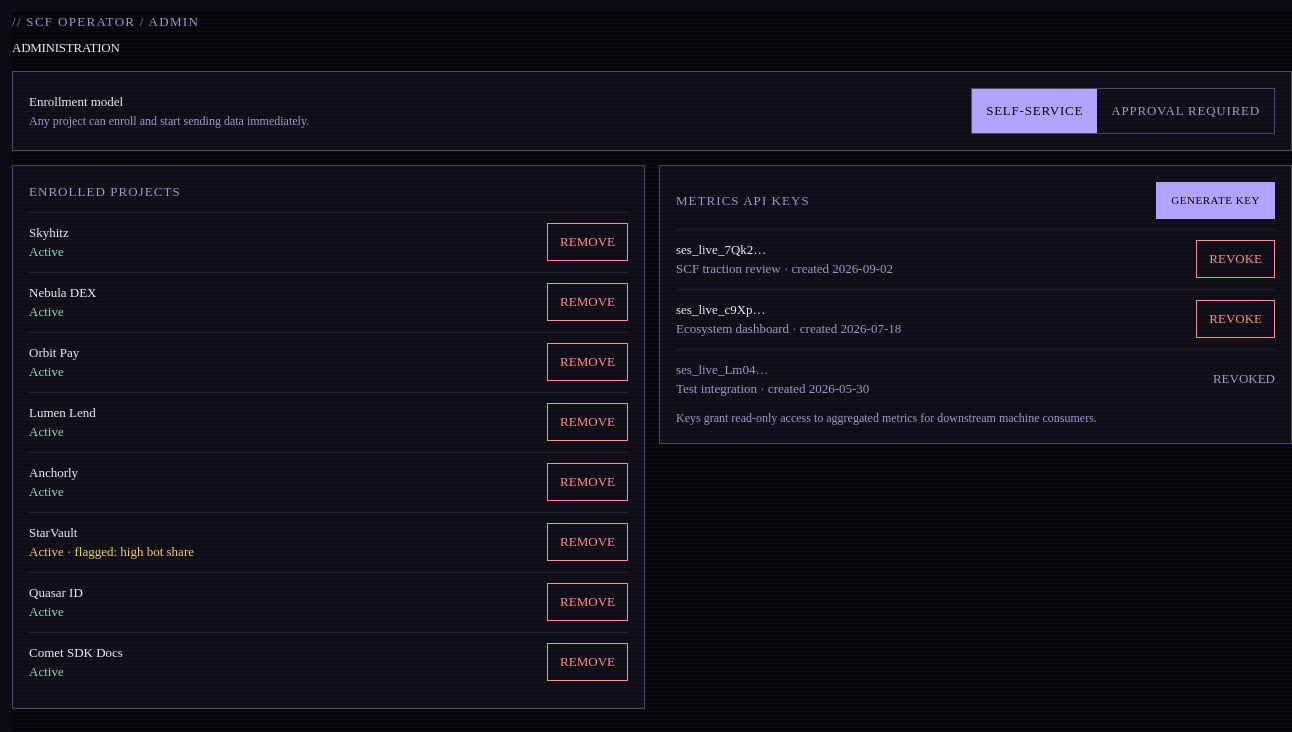
Test: AdminScreen › explains the enrollment model that is selected
expect the text "Any project can enroll and start sending data immediately." is shown: met, box [29,114,309,128]
Click the button "Approval required" at (1186, 111), box [1097,89,1274,133]
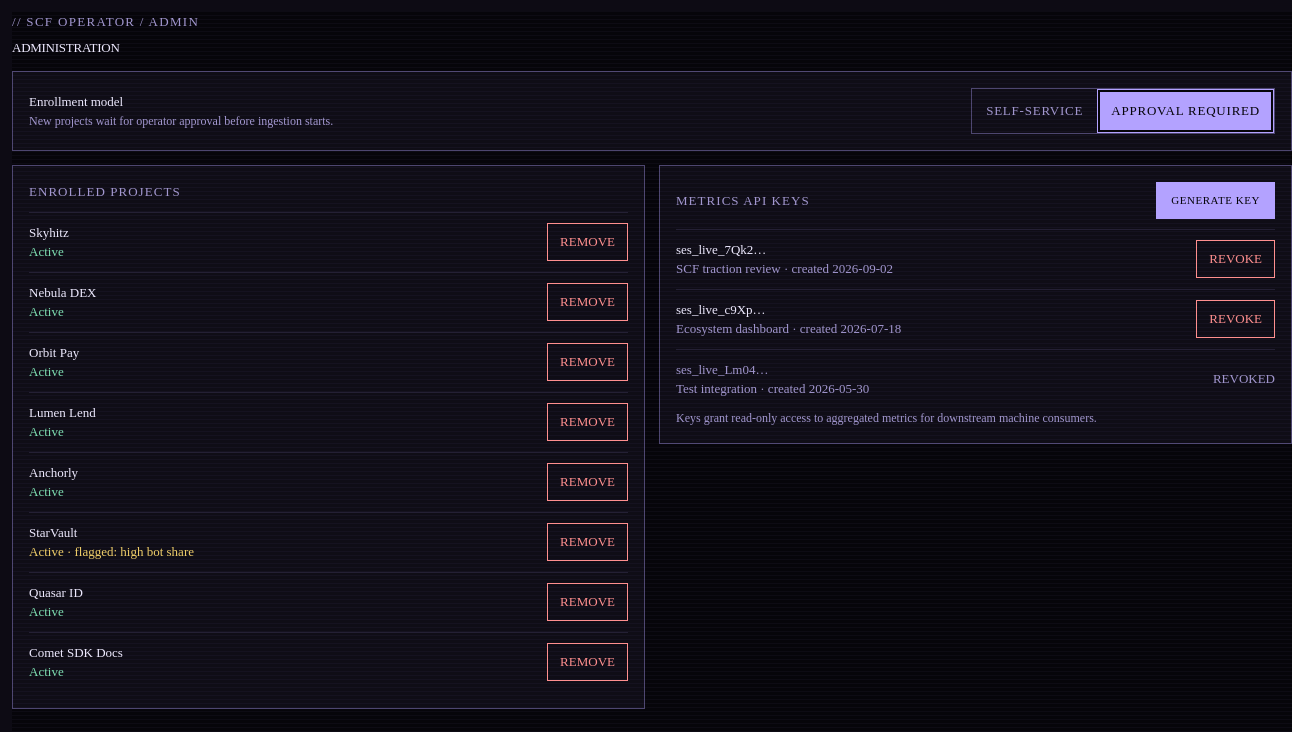
expect the text "New projects wait for operator approval before ingestion starts." is shown: met, box [29,114,333,128]
